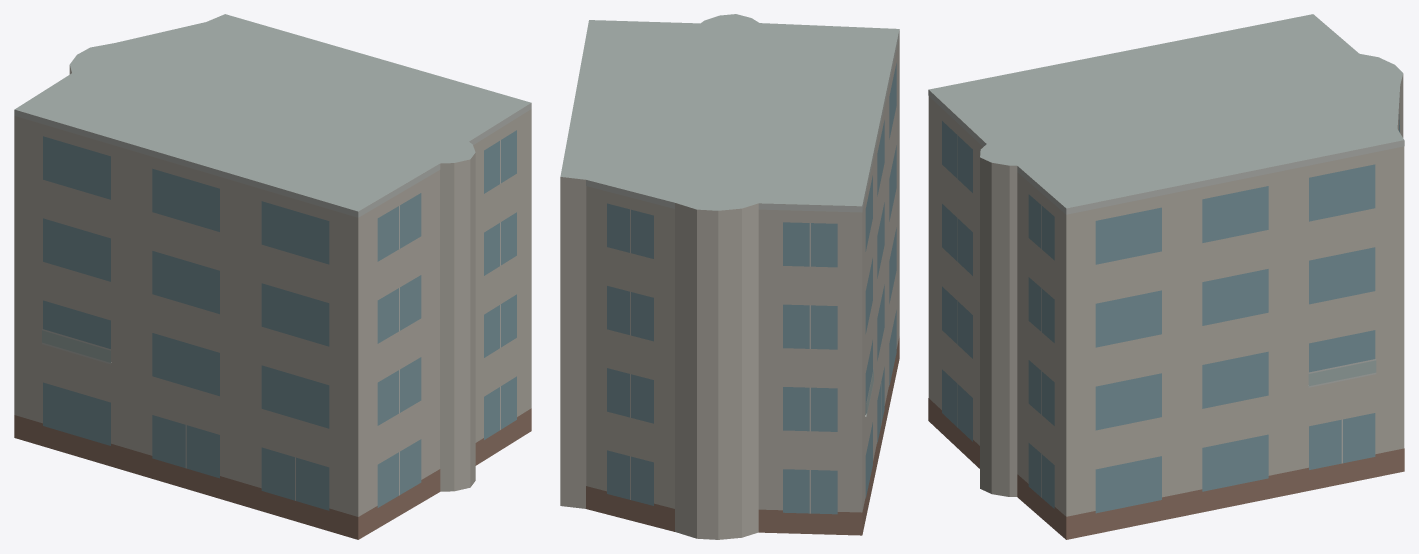
The model's file is survey-upis-33014083.glb.
3 renders of one model, left to right at view 1: azimuth 30°, elevation 25°; view 2: azimuth 150°, elevation 25°; view 3: azimuth 270°, elevation 25°, orthographic.
Parts seen in each view (by area): view 1: survey-upis-33014083.tmp; view 2: survey-upis-33014083.tmp; view 3: survey-upis-33014083.tmp.
Boxes of the visible parts, bbox=[...] form: survey-upis-33014083.tmp: bbox=[14, 14, 531, 539]; survey-upis-33014083.tmp: bbox=[560, 14, 899, 539]; survey-upis-33014083.tmp: bbox=[928, 14, 1404, 539].
Bounding box in the file's own units: 16.24 × 12.9 × 16.79.
